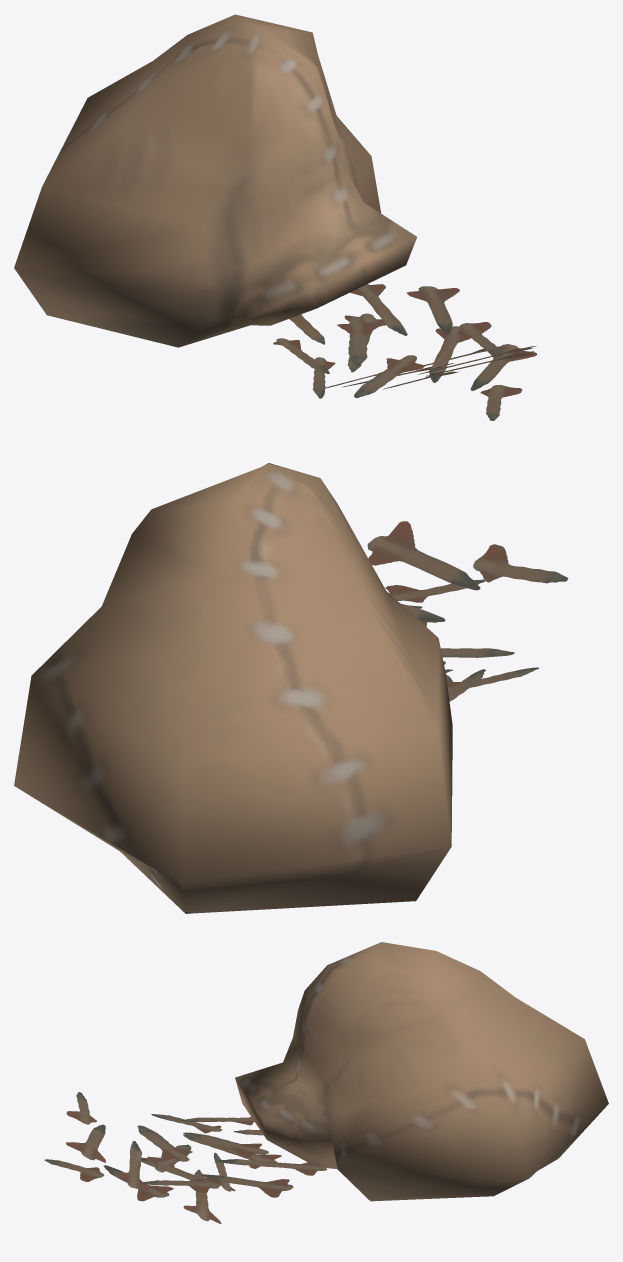
The model's file is Sack_of_Bolts.FBX.
The picture shows the model from 3 angles, top to bottom: view 1: azimuth 30°, elevation 25°; view 2: azimuth 150°, elevation 25°; view 3: azimuth 270°, elevation 25°; orthographic projection. The views are drawn at different scales.
Parts seen in each view (by area): view 1: Sack_With_Bolts; view 2: Sack_With_Bolts; view 3: Sack_With_Bolts.
Part boxes in pixels (x1=…): Sack_With_Bolts: x1=14, y1=14, x2=536, y2=420; Sack_With_Bolts: x1=14, y1=463, x2=568, y2=913; Sack_With_Bolts: x1=44, y1=942, x2=608, y2=1223.
Size of what is drawn, in the model's own units: 69.79 by 109 by 50.48.
Materials: 1 (1 with a texture image).
